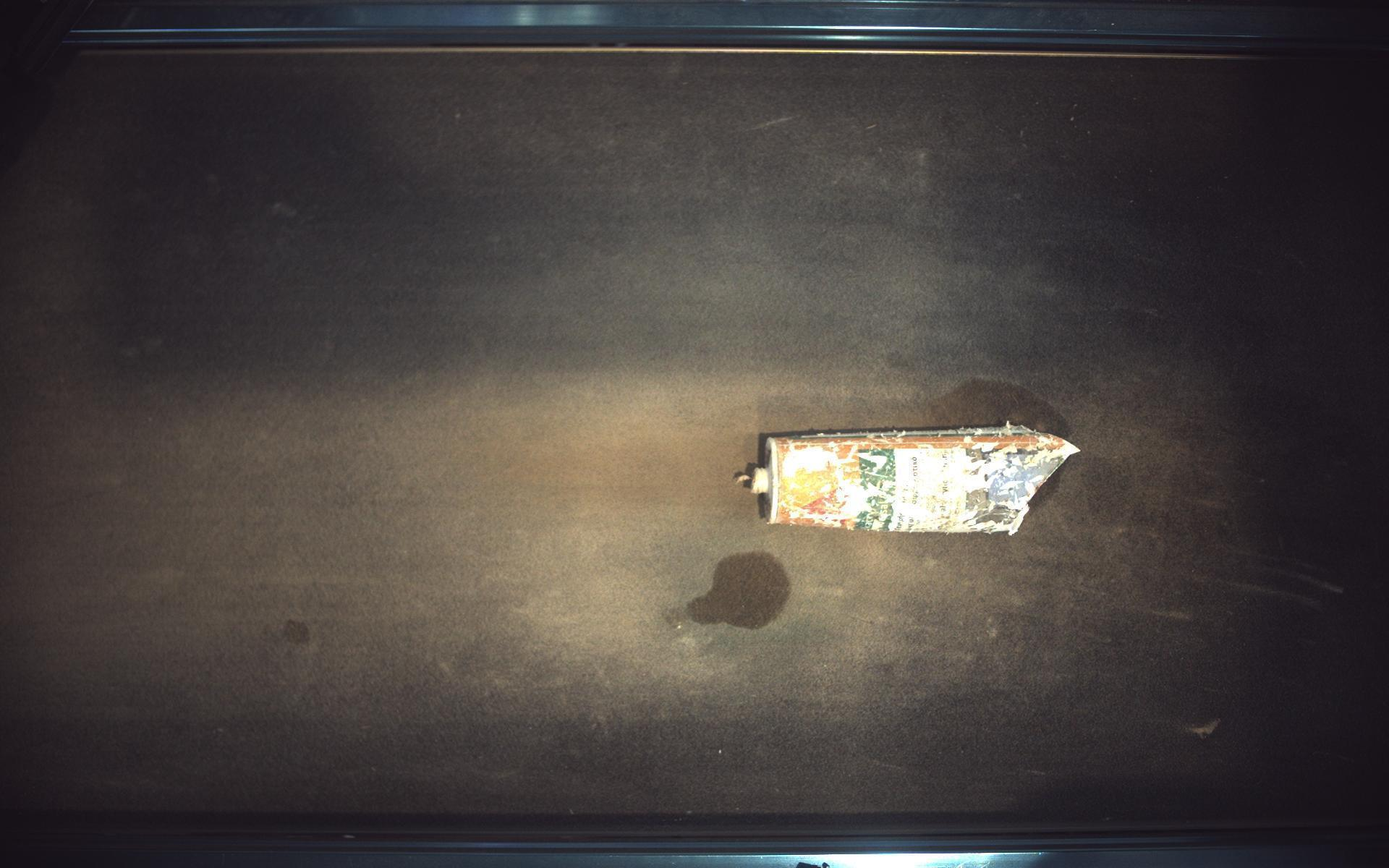plastic: (739, 425, 1080, 535)
